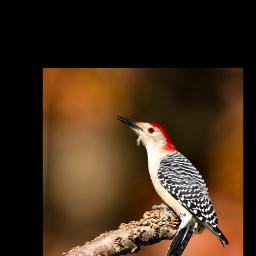Woodpecker: (108, 115, 236, 256)
